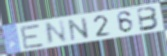2: (92, 14, 113, 38)
6: (115, 11, 135, 34)
B: (136, 6, 161, 33)
E: (18, 23, 46, 51)
N: (44, 19, 70, 47), (67, 16, 91, 42)
